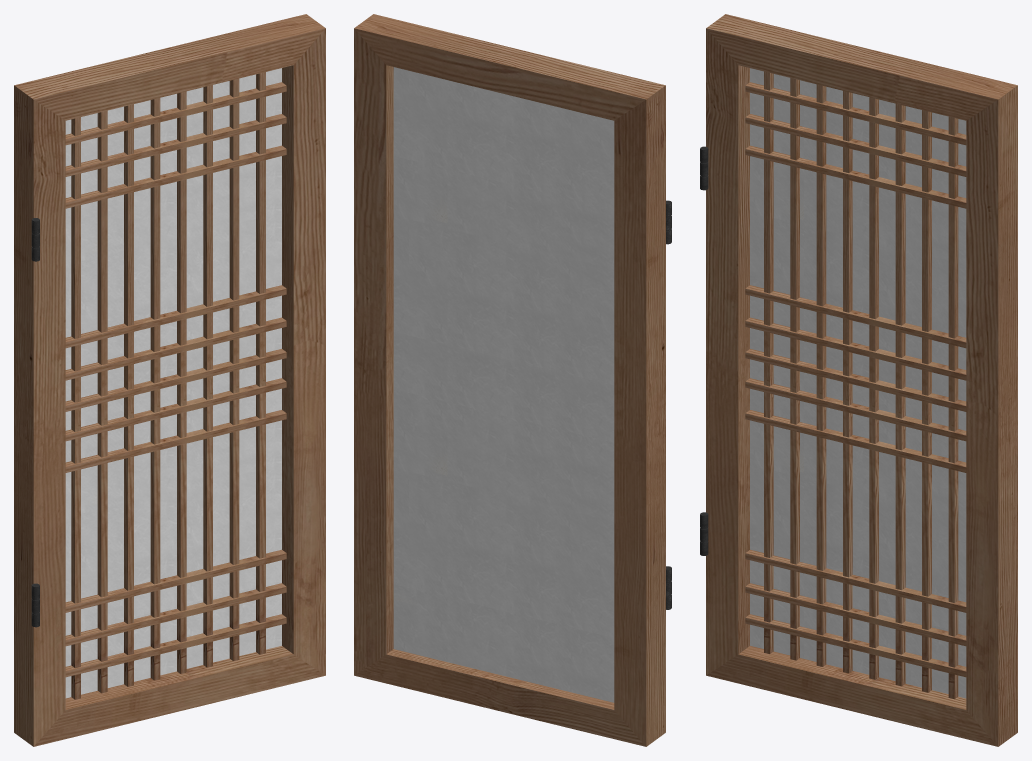
The model's file is SM_Yeonkyung_Anchae_Win_D_001.fbx.
The picture shows the model from 3 angles, left to right: view 1: azimuth 30°, elevation 25°; view 2: azimuth 150°, elevation 25°; view 3: azimuth 330°, elevation 25°; orthographic projection.
Visible parts, largest first — view 1: SM_Yeonkyung_Anchae_Win_D_001; view 2: SM_Yeonkyung_Anchae_Win_D_001; view 3: SM_Yeonkyung_Anchae_Win_D_001.
Boxes of the visible parts, x1,y1,x2,y2 form: SM_Yeonkyung_Anchae_Win_D_001: [14, 14, 325, 746]; SM_Yeonkyung_Anchae_Win_D_001: [354, 14, 671, 746]; SM_Yeonkyung_Anchae_Win_D_001: [700, 14, 1017, 746].
Size of the model in its own units: 50.16 by 105 by 6.93.
